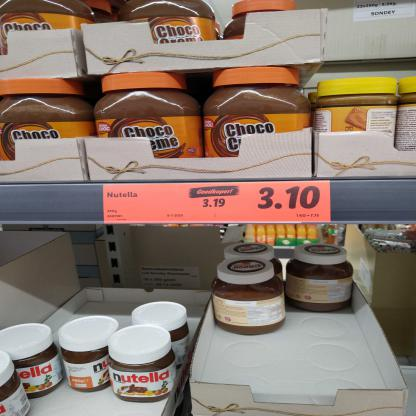prtg: (104, 181, 331, 224)
